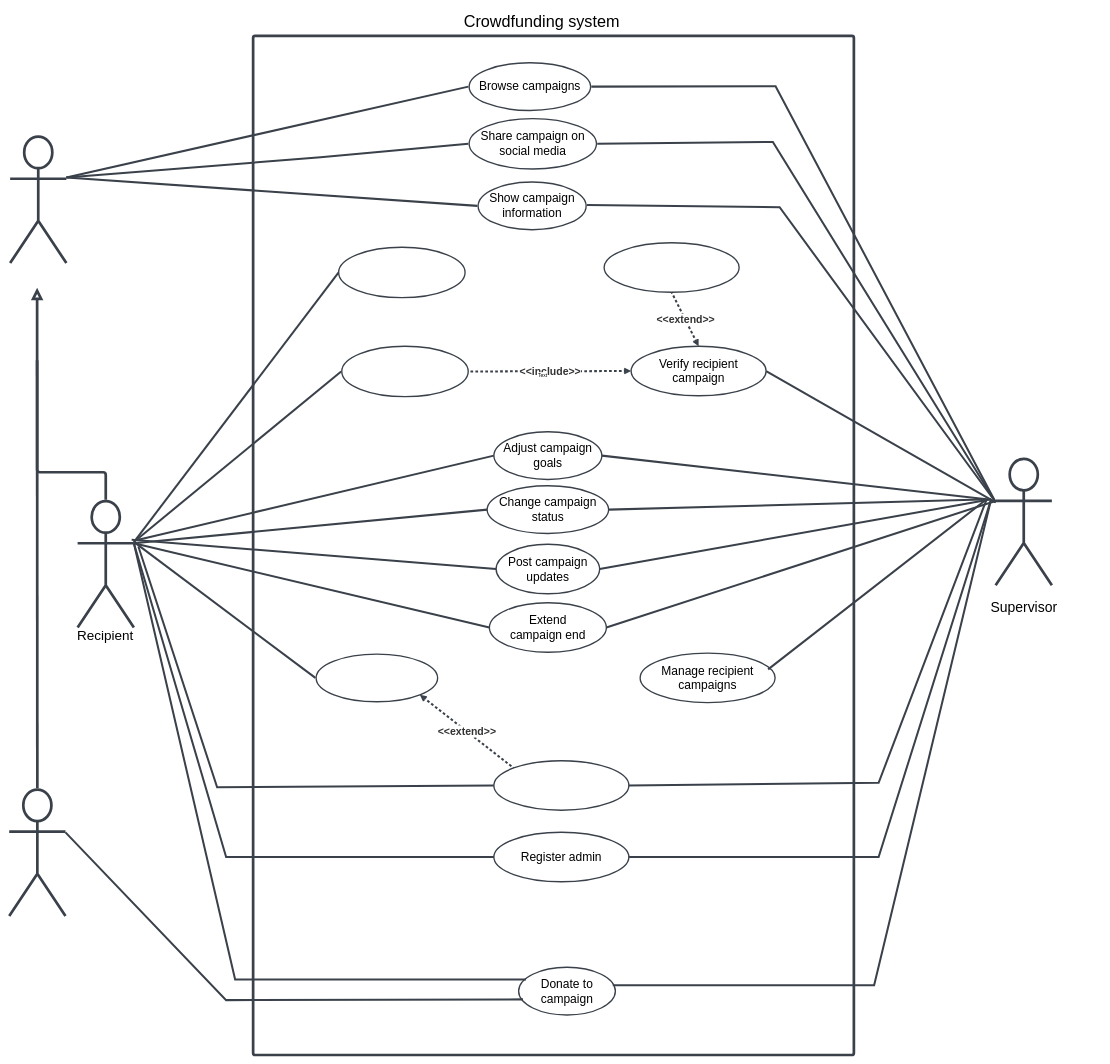
The diagram is 1110 pixels wide and 1064 high, and some of its shapes have lost their labels. The shapes that lost their labels are listed below. From the top down, each one's centre as x and y in pixels, then its label:
At (x=38, y=199): "End user".
At (x=402, y=272): "Request campaign adjustment".
At (x=671, y=267): "Activate recipient campaign".
At (x=405, y=371): "Apply for campaign creation".
At (x=376, y=677): "Create recipient account".
At (x=561, y=785): "Login user".
At (x=37, y=852): "Donor".
